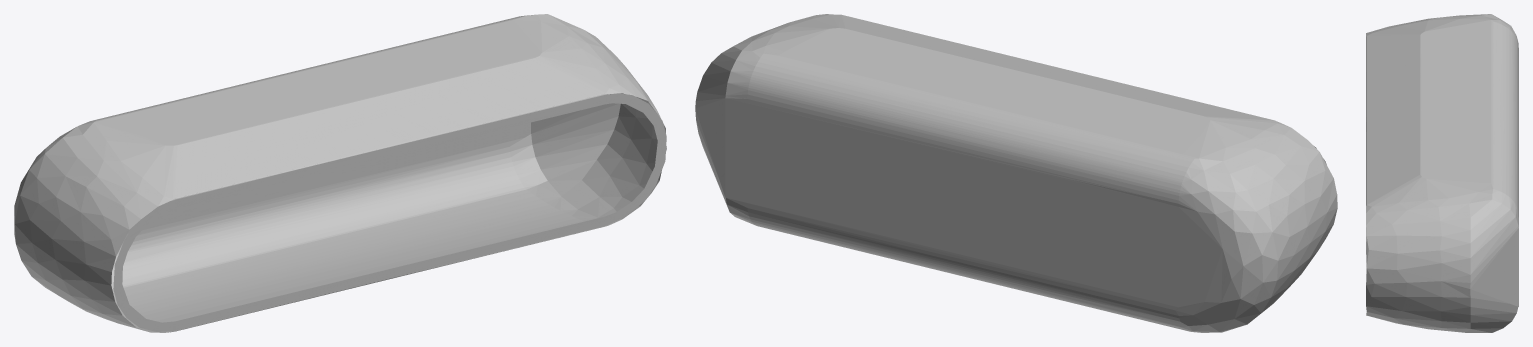
The model's file is d435_body.dae.
3 views of the same model, side by side, from view 1: azimuth 30°, elevation 25°; view 2: azimuth 150°, elevation 25°; view 3: azimuth 270°, elevation 25° (orthographic). The views are drawn at different scales.
Visible parts, largest first — view 1: node; view 2: node; view 3: node.
Boxes of the visible parts, x1=… form: node: x1=14, y1=14, x2=666, y2=332; node: x1=695, y1=14, x2=1337, y2=332; node: x1=1366, y1=14, x2=1518, y2=332.
Bounding box in the file's own units: 0.0899 × 0.025 × 0.0251.
1 material, 1 textured.
